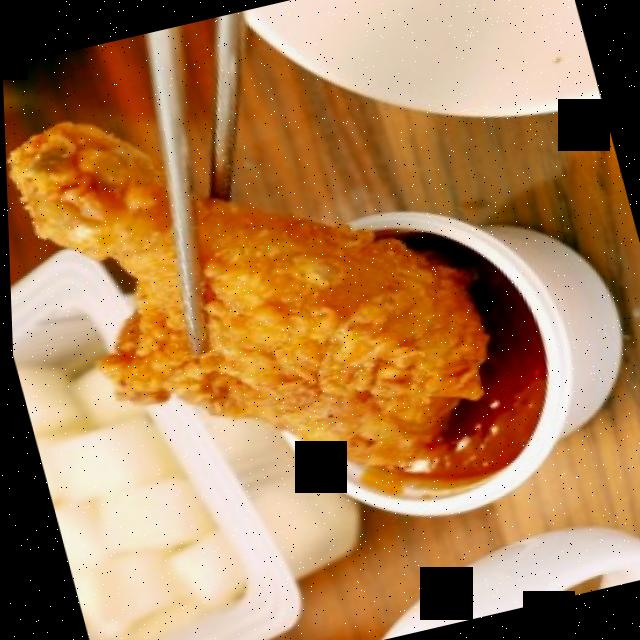Frango: (1, 50, 517, 532)
